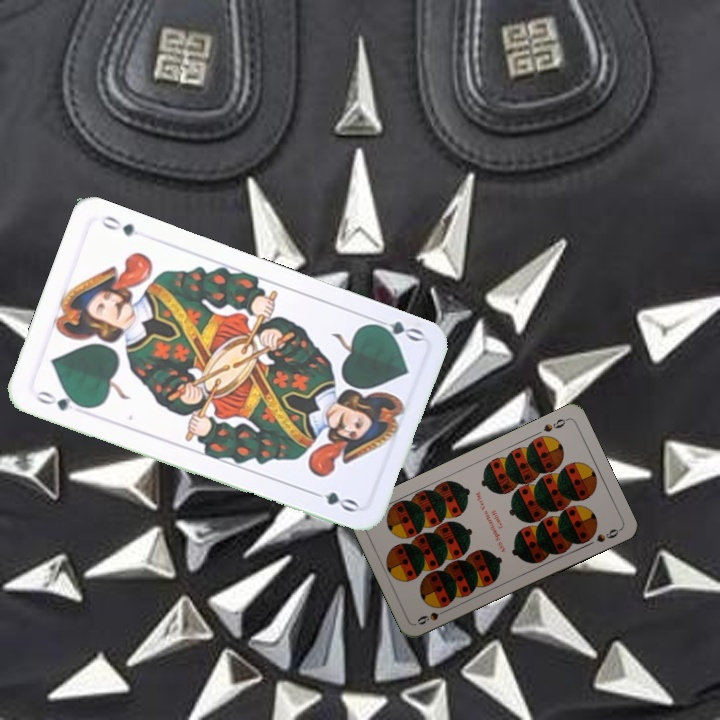GO: (366, 313, 426, 345), (31, 386, 89, 414)
S9: (413, 604, 452, 628), (539, 414, 570, 435)
